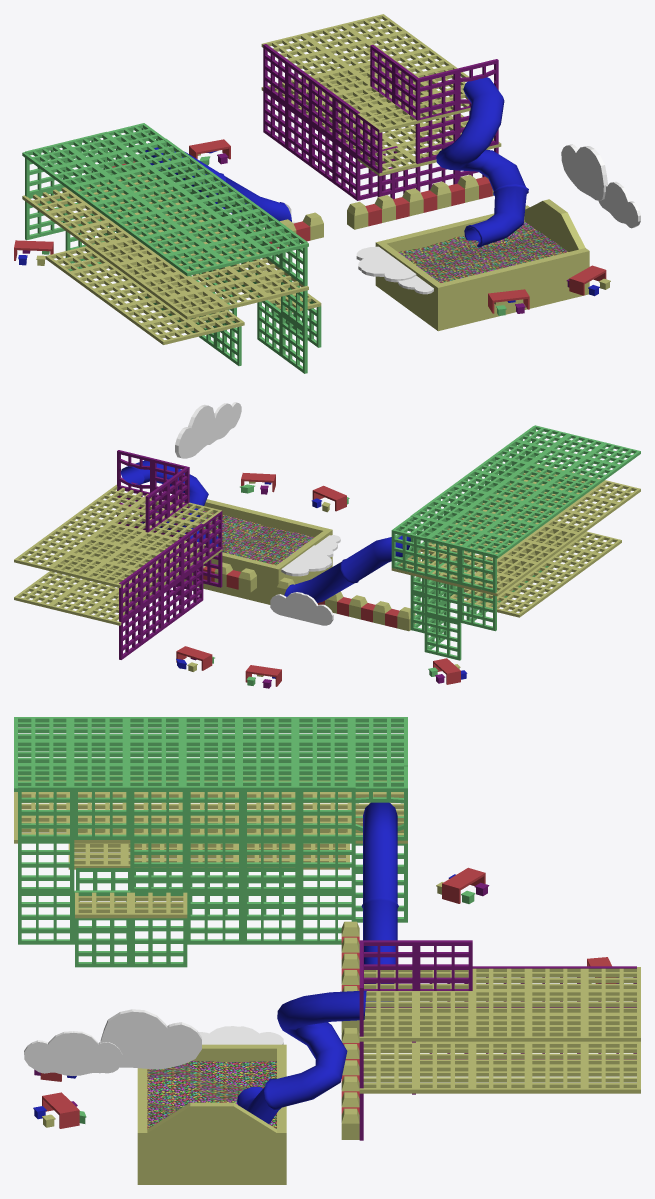
The model's file is Playground.fbx.
The picture shows the model from 3 angles, top to bottom: view 1: azimuth 30°, elevation 25°; view 2: azimuth 150°, elevation 25°; view 3: azimuth 270°, elevation 25°; orthographic projection. The views are drawn at different scales.
Visible parts, largest first — view 1: Klim.019, Klim.016, Ballpit, Klim.007, Klim, Glijbaan_Twirl, Klim.020, Klim.012, Ballpit.001, Castle_Wall, Klim.004, Klim.015 (+15 smaller); view 2: Klim.019, Klim.007, Klim.016, Klim, Klim.015, Klim.004, Klim.020, Ballpit, Ballpit.001, Castle_Wall, Glijbaan_Long, Klim.012 (+16 smaller); view 3: Klim.012, Klim.019, Klim.007, Klim.004, Ballpit, Klim.016, Glijbaan_Twirl, Glijbaan_Long, Ballpit.001, Klim.020, Cloud.012, Klim.023 (+11 smaller).
Boxes of the visible parts, x1=… form: Klim.019: x1=22, y1=123, x2=308, y2=276; Klim.016: x1=22, y1=172, x2=308, y2=319; Ballpit: x1=375, y1=199, x2=589, y2=331; Klim.007: x1=261, y1=14, x2=470, y2=132; Klim: x1=263, y1=44, x2=360, y2=200; Glijbaan_Twirl: x1=436, y1=77, x2=528, y2=247; Klim.020: x1=45, y1=237, x2=244, y2=344; Klim.012: x1=163, y1=138, x2=307, y2=373; Ballpit.001: x1=398, y1=221, x2=567, y2=283; Castle_Wall: x1=253, y1=175, x2=493, y2=248; Klim.004: x1=261, y1=60, x2=501, y2=176; Klim.015: x1=25, y1=131, x2=107, y2=271; Klim.019: x1=391, y1=425, x2=640, y2=558; Klim.007: x1=14, y1=484, x2=221, y2=587; Klim.016: x1=391, y1=463, x2=640, y2=596; Klim: x1=119, y1=523, x2=203, y2=659; Klim.015: x1=424, y1=537, x2=496, y2=660; Klim.004: x1=14, y1=528, x2=222, y2=625; Klim.020: x1=450, y1=524, x2=621, y2=617; Ballpit: x1=170, y1=495, x2=332, y2=604; Ballpit.001: x1=192, y1=511, x2=314, y2=565; Castle_Wall: x1=192, y1=562, x2=415, y2=631; Glijbaan_Long: x1=284, y1=535, x2=410, y2=602; Klim.012: x1=410, y1=426, x2=535, y2=630; Klim.012: x1=18, y1=786, x2=355, y2=944; Klim.019: x1=14, y1=717, x2=407, y2=791; Klim.007: x1=359, y1=967, x2=640, y2=1041; Klim.004: x1=359, y1=1025, x2=640, y2=1093; Ballpit: x1=137, y1=1044, x2=286, y2=1184; Klim.016: x1=14, y1=775, x2=407, y2=843; Glijbaan_Twirl: x1=237, y1=990, x2=366, y2=1123; Glijbaan_Long: x1=361, y1=802, x2=398, y2=1001; Ballpit.001: x1=147, y1=1061, x2=276, y2=1128; Klim.020: x1=68, y1=832, x2=349, y2=869; Cloud.012: x1=100, y1=1009, x2=201, y2=1069; Klim.023: x1=75, y1=918, x2=187, y2=967.
Size of the model in its own units: 4307 by 1523 by 4258.
